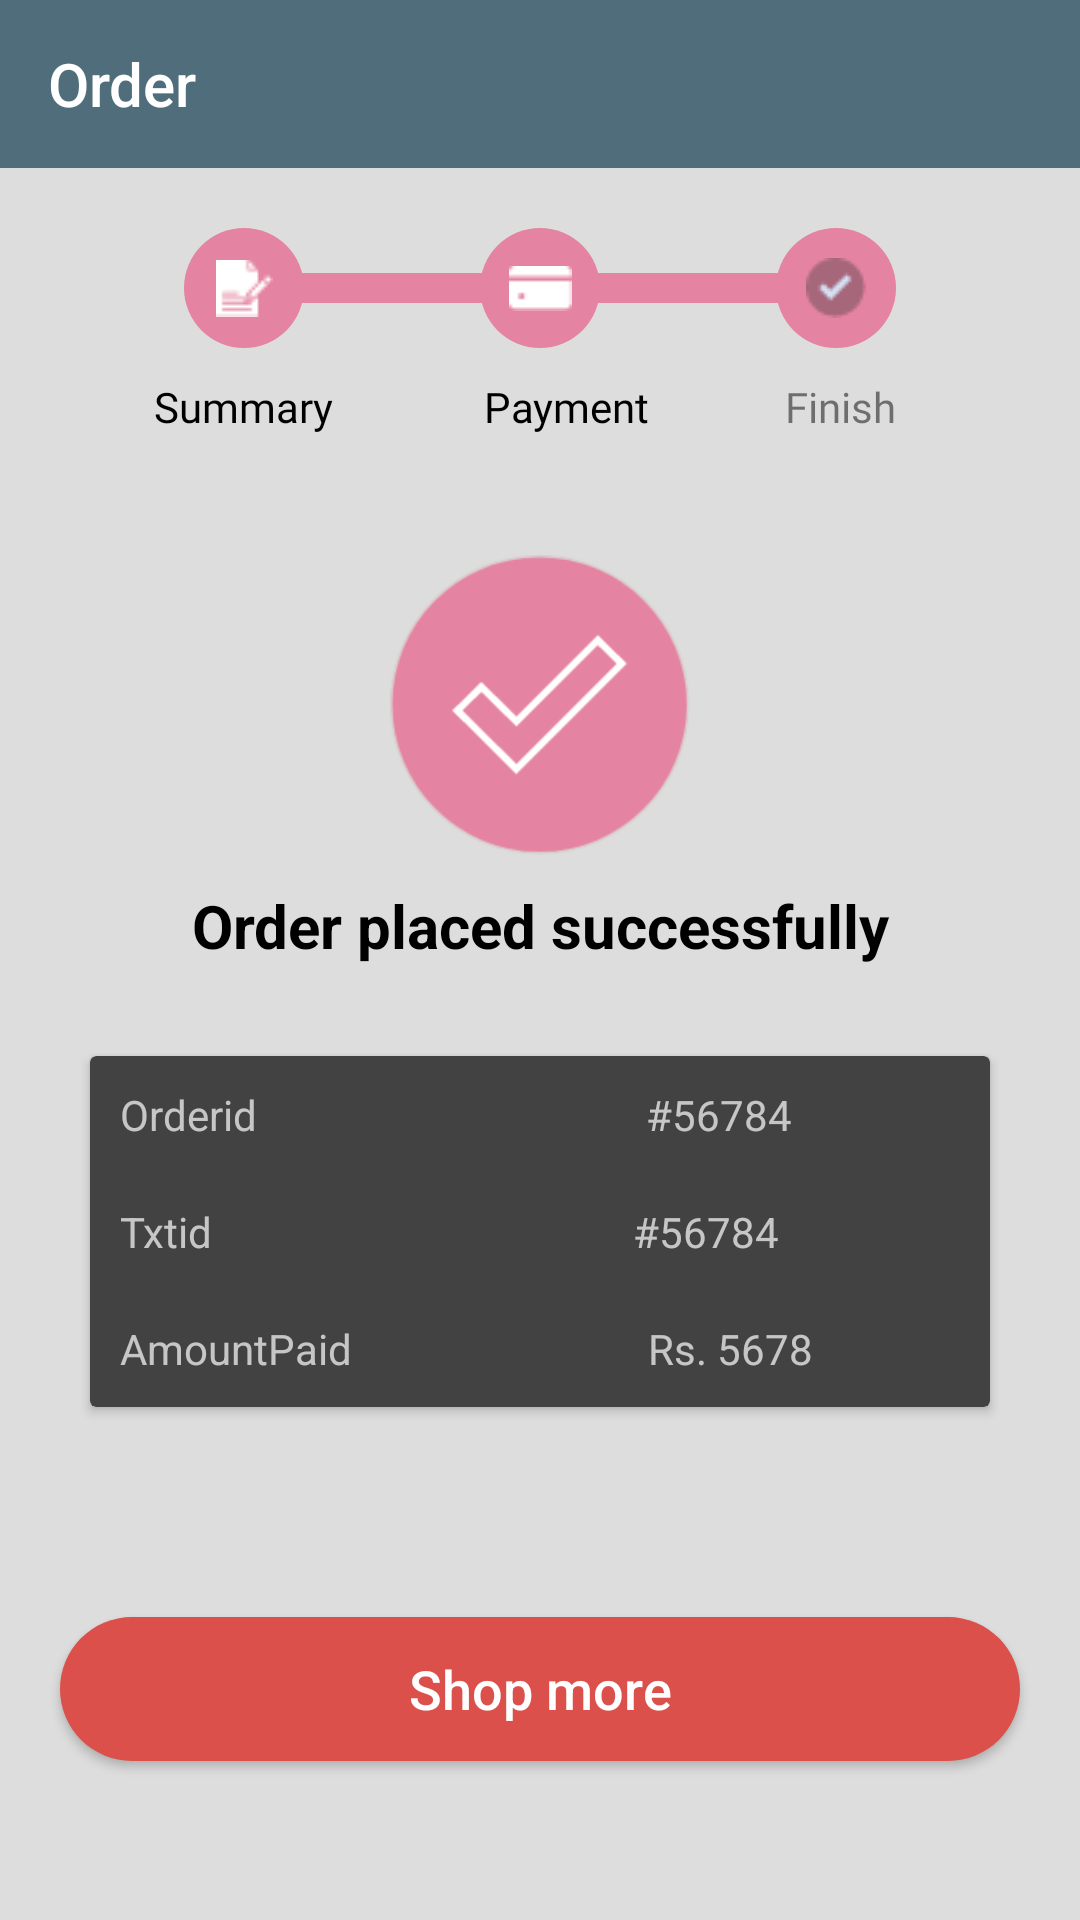

Icon bounding boxes for this 1080px×1920px phone screenshot, format {"x1": x1, "y1": y1, "x2": x2, "y2": y2}:
card: {"x1": 480, "y1": 228, "x2": 600, "y2": 348}
check: {"x1": 776, "y1": 228, "x2": 896, "y2": 348}
checksuccess: {"x1": 391, "y1": 556, "x2": 687, "y2": 852}
report: {"x1": 184, "y1": 228, "x2": 304, "y2": 348}
